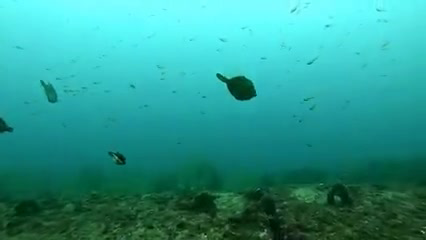kawahagi: (210, 70, 260, 103)
smallfish: (38, 80, 68, 107), (106, 149, 130, 169)
